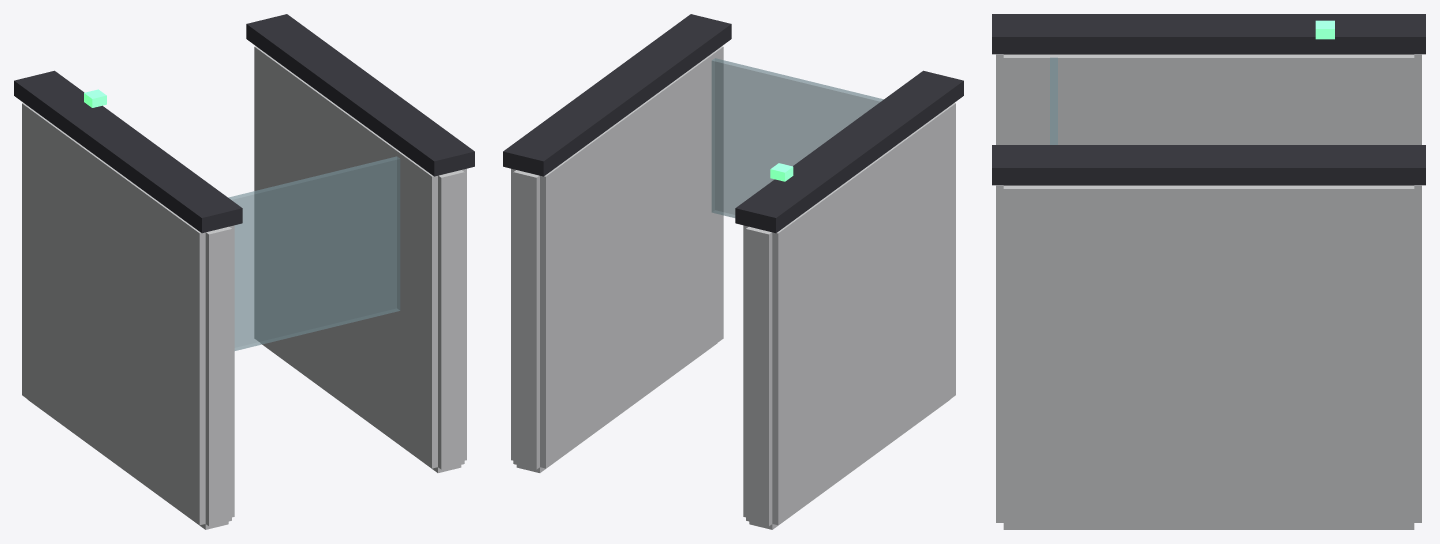
File: fare_gate.glb
3 renders of one model, left to right at view 1: azimuth 30°, elevation 25°; view 2: azimuth 150°, elevation 25°; view 3: azimuth 270°, elevation 25°, orthographic. The views are drawn at different scales.
Parts seen in each view (by area): view 1: fare_gate; view 2: fare_gate; view 3: fare_gate.
Boxes of the visible parts, x1,y1,x2,y2 form: fare_gate: (14, 14, 474, 529); fare_gate: (503, 14, 963, 529); fare_gate: (992, 14, 1425, 529).
Bounding box in the file's own units: 0.94 × 1.07 × 1.12.
